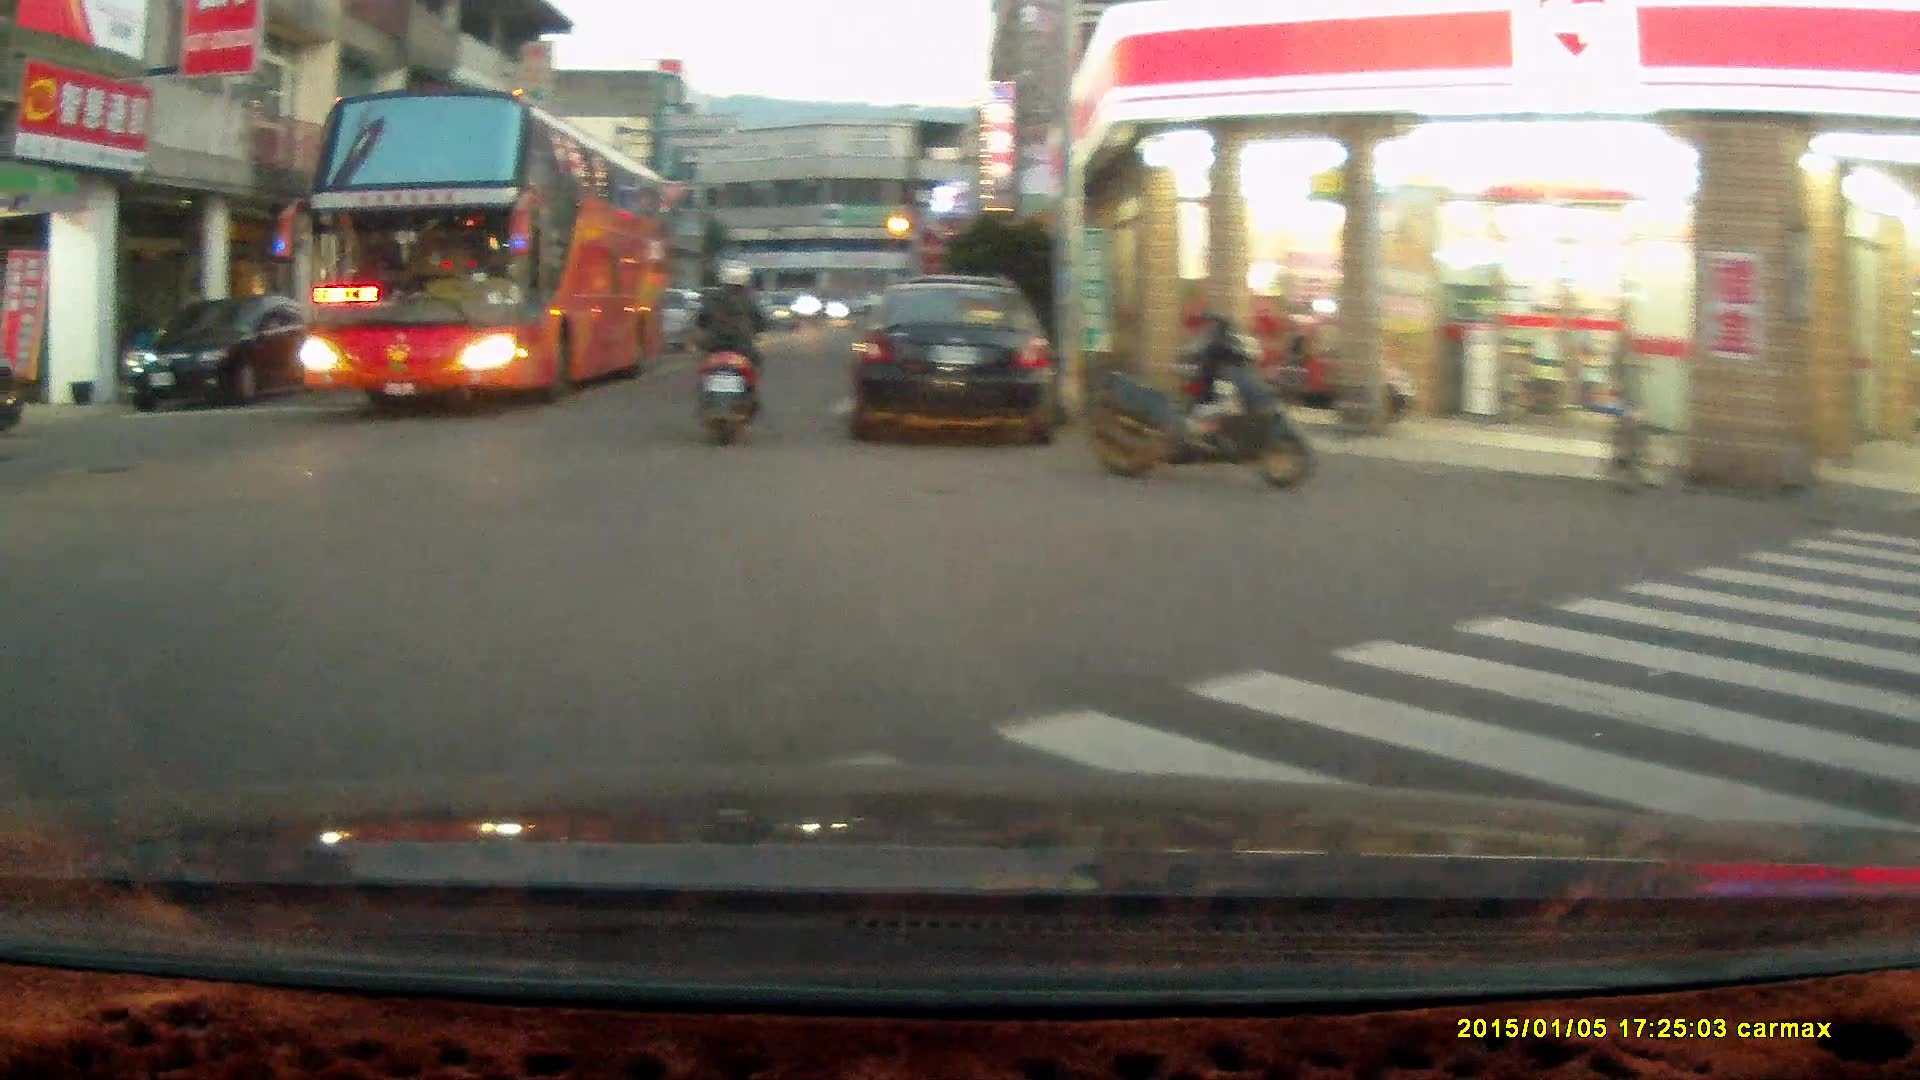rider: (678, 263, 763, 455)
vehicle: (291, 95, 673, 418), (843, 277, 1061, 445), (121, 294, 327, 407)
